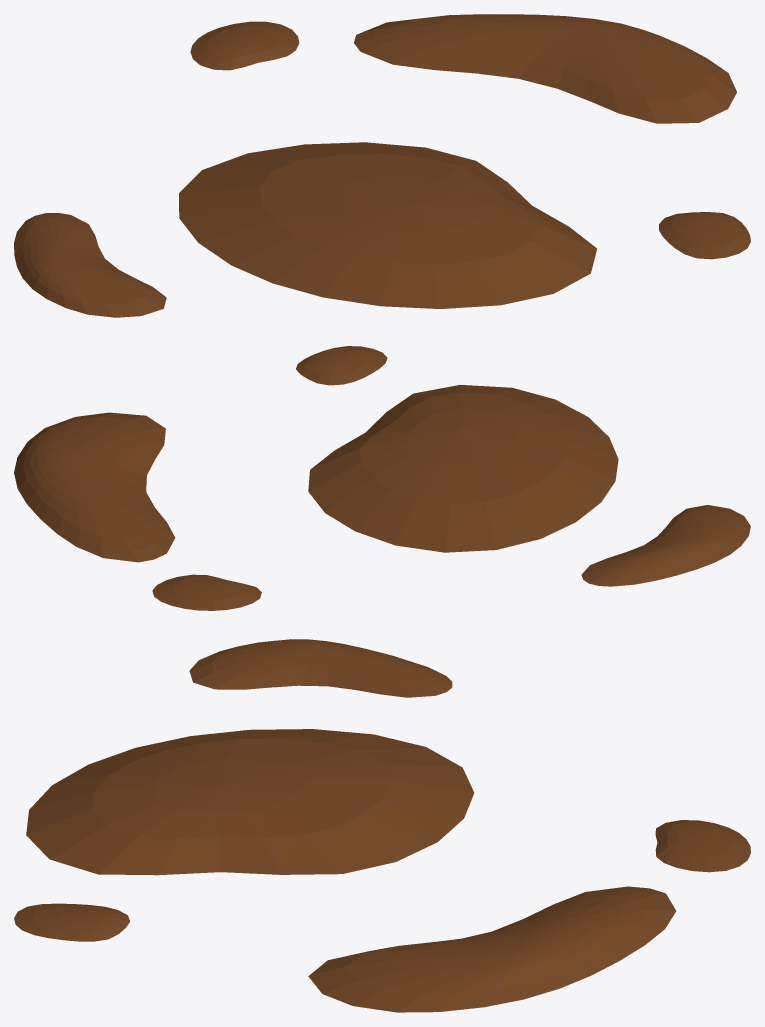
The model's file is filth.fbx.
The picture shows the model from 3 angles, top to bottom: view 1: azimuth 30°, elevation 25°; view 2: azimuth 150°, elevation 25°; view 3: azimuth 270°, elevation 25°; orthographic projection. The views are drawn at different scales.
Visible parts, largest first — view 1: 개체_5, 개체_4, 개체_2, 개체_1, 개체_3; view 2: 개체_5, 개체_4, 개체_2, 개체_1, 개체_3; view 3: 개체_5, 개체_4, 개체_2, 개체_1, 개체_3.
Boxes of the visible parts, x1=… form: 개체_5: x1=179, y1=142, x2=596, y2=308; 개체_4: x1=354, y1=14, x2=736, y2=123; 개체_2: x1=14, y1=213, x2=166, y2=317; 개체_1: x1=190, y1=21, x2=299, y2=70; 개체_3: x1=659, y1=212, x2=750, y2=259; 개체_5: x1=308, y1=385, x2=618, y2=552; 개체_4: x1=14, y1=412, x2=175, y2=562; 개체_2: x1=581, y1=505, x2=750, y2=586; 개체_1: x1=152, y1=574, x2=261, y2=610; 개체_3: x1=296, y1=346, x2=387, y2=385; 개체_5: x1=26, y1=729, x2=474, y2=875; 개체_4: x1=308, y1=886, x2=676, y2=1012; 개체_2: x1=189, y1=639, x2=452, y2=697; 개체_1: x1=655, y1=820, x2=750, y2=872; 개체_3: x1=14, y1=903, x2=129, y2=941.
Bounding box in the file's own units: 1050 × 41.67 × 887.
